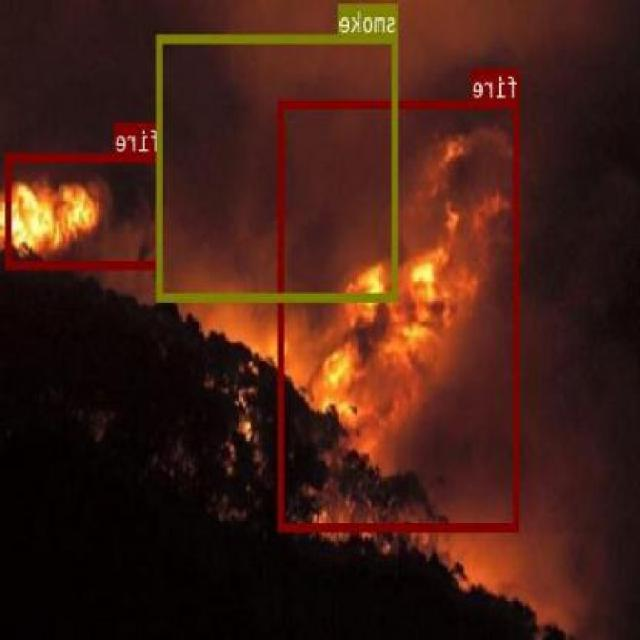Fire: (280, 98, 520, 530), (6, 152, 163, 268)
Smoke: (158, 33, 399, 299)
